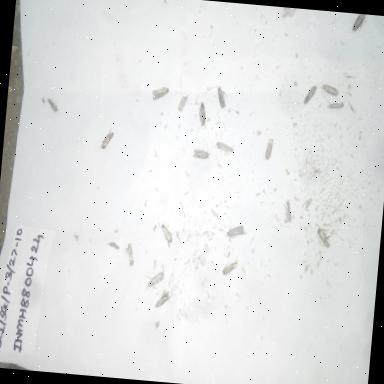pbw: (193, 97, 213, 130), (98, 126, 118, 156), (144, 269, 170, 292), (149, 84, 173, 108), (191, 140, 213, 166), (324, 96, 347, 120), (225, 220, 249, 242), (221, 254, 241, 279), (153, 287, 172, 313), (320, 78, 342, 100), (156, 222, 176, 246), (316, 226, 334, 252), (122, 242, 136, 270), (302, 82, 318, 106), (214, 84, 228, 111), (214, 140, 237, 156), (264, 134, 276, 164), (351, 14, 368, 34), (282, 198, 294, 225), (176, 92, 190, 114), (45, 98, 60, 116), (300, 195, 314, 214), (106, 240, 121, 253)
